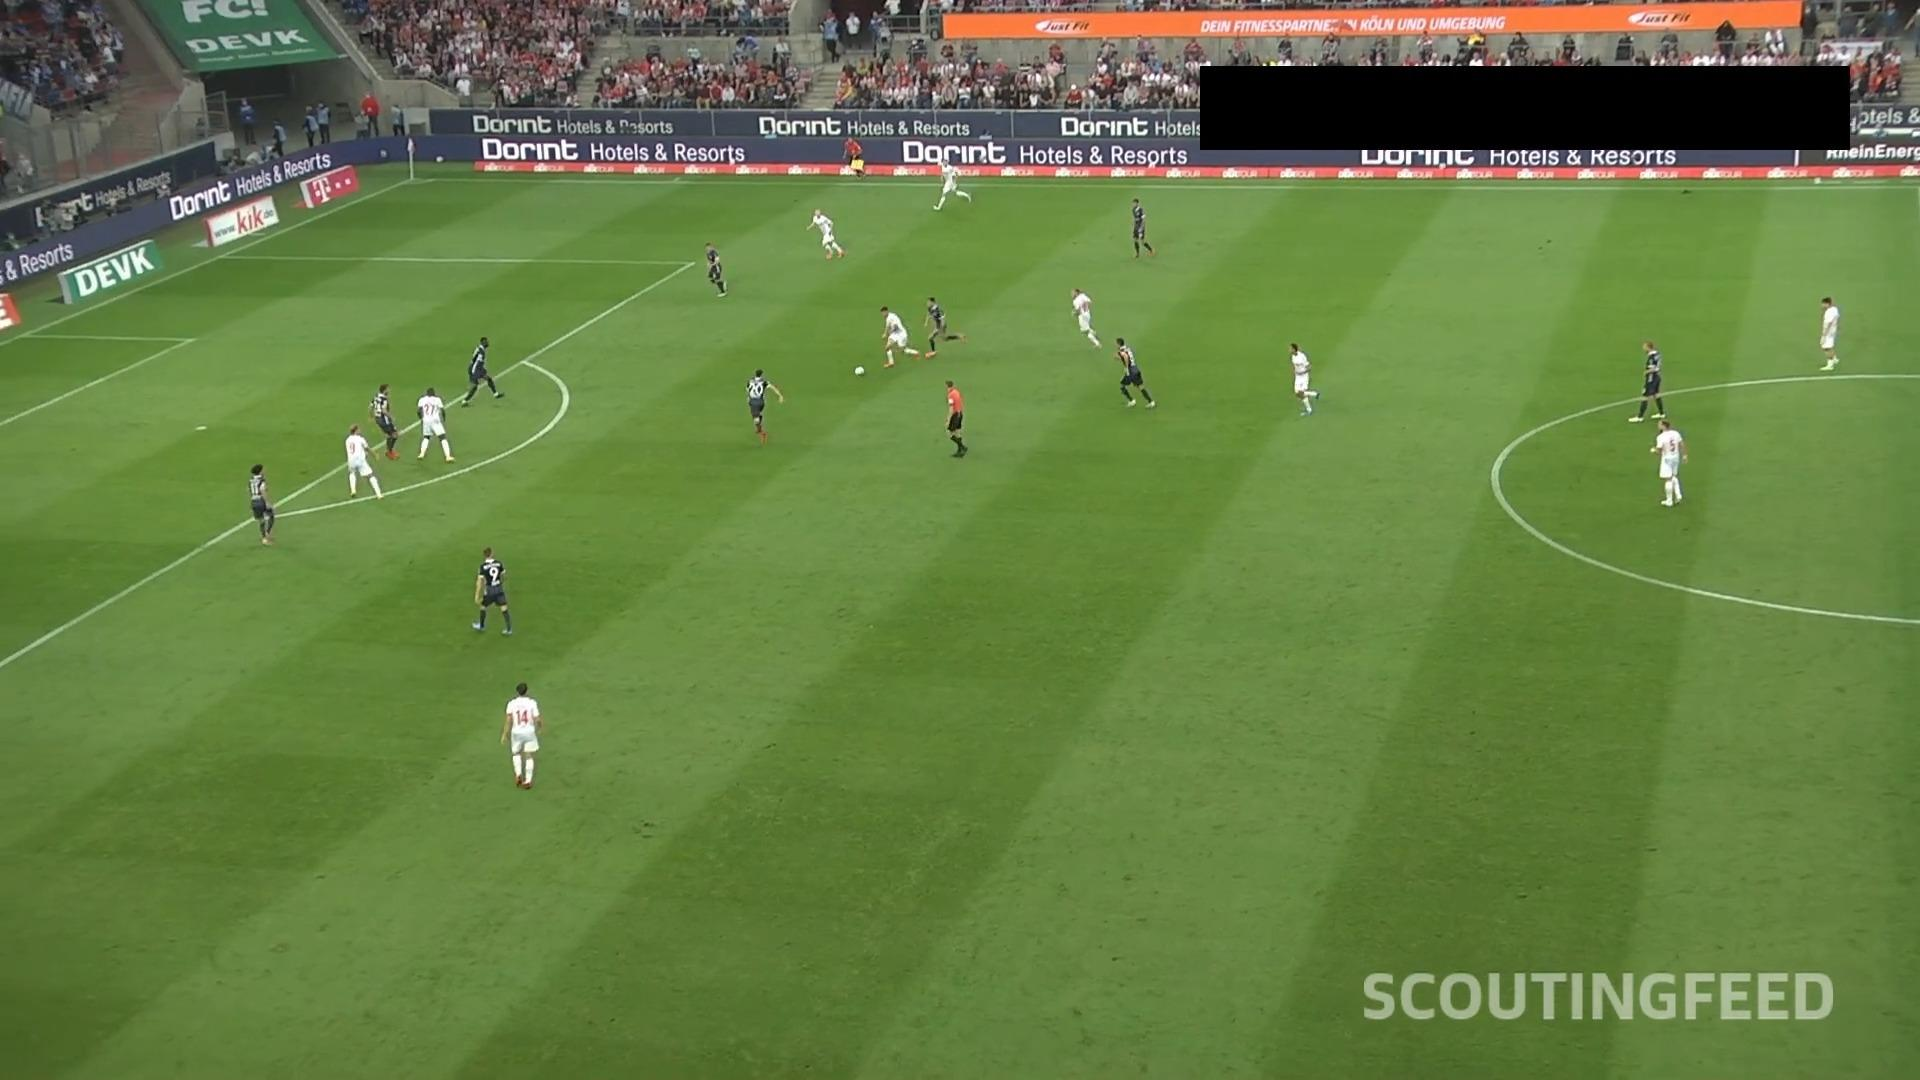ball: (853, 364, 866, 378)
